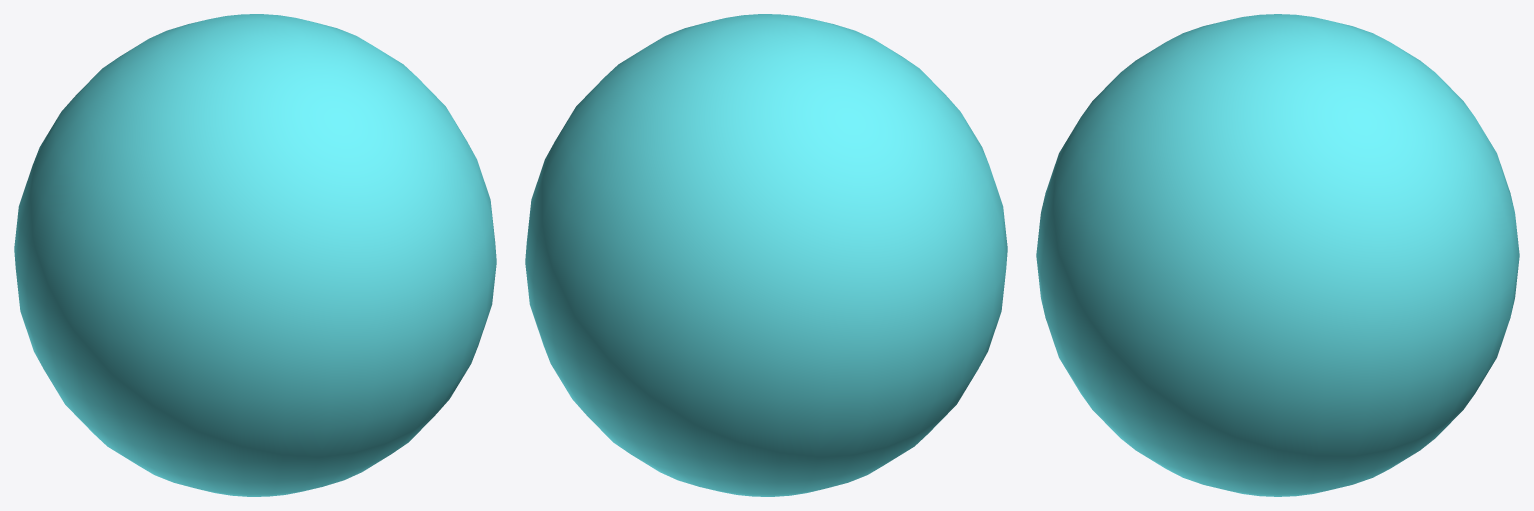
The model's file is grenade-launcher-pickup.glb.
The picture shows the model from 3 angles, left to right: view 1: azimuth 30°, elevation 25°; view 2: azimuth 150°, elevation 25°; view 3: azimuth 270°, elevation 25°; orthographic projection.
Parts seen in each view (by area): view 1: Pickup_Bubble.004; view 2: Pickup_Bubble.004; view 3: Pickup_Bubble.004.
Boxes of the visible parts, bbox=[...] form: Pickup_Bubble.004: bbox=[14, 14, 496, 496]; Pickup_Bubble.004: bbox=[525, 14, 1007, 496]; Pickup_Bubble.004: bbox=[1036, 14, 1519, 496].
Size of the model in its own units: 1 by 1 by 1.
